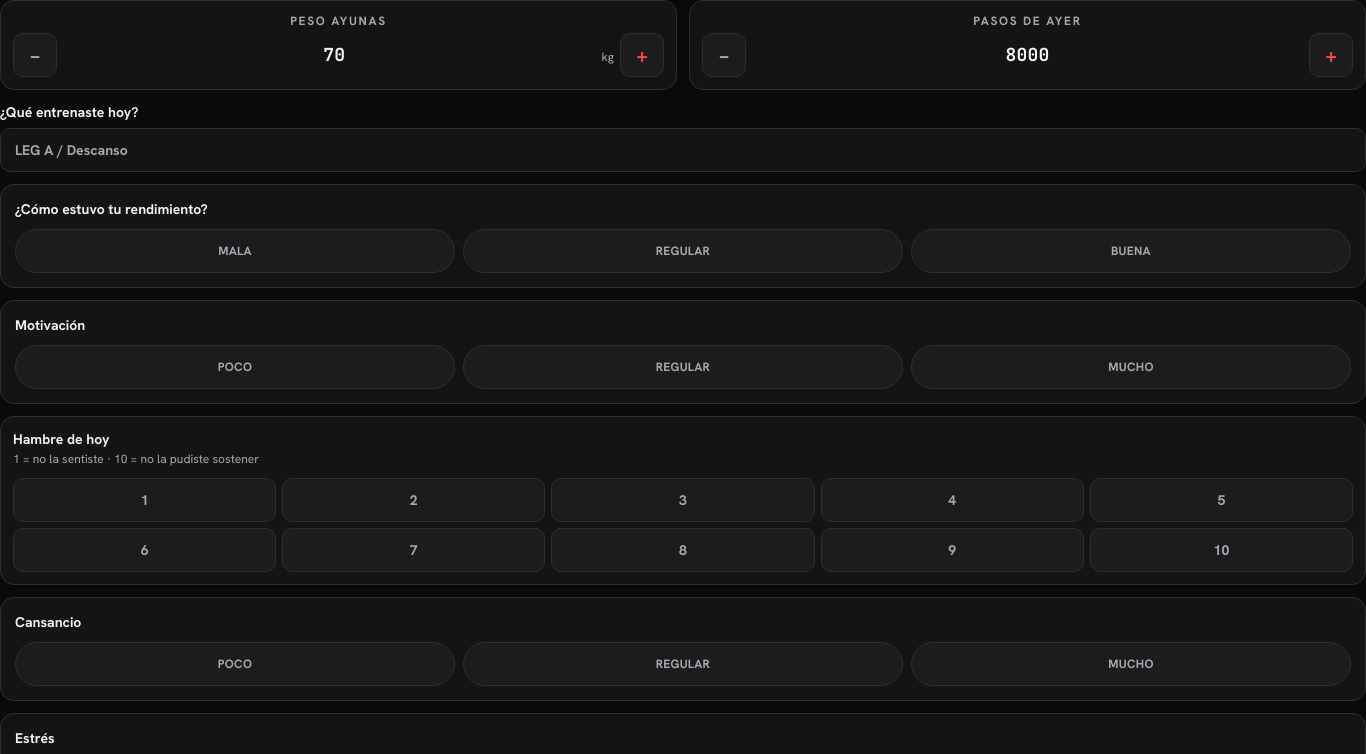
Test: CheckinForm — la escala de hambre › dice cómo se vive ese nivel, para que dos personas calibren igual
Click the button "8" at (683, 550), box [551,528,815,572]
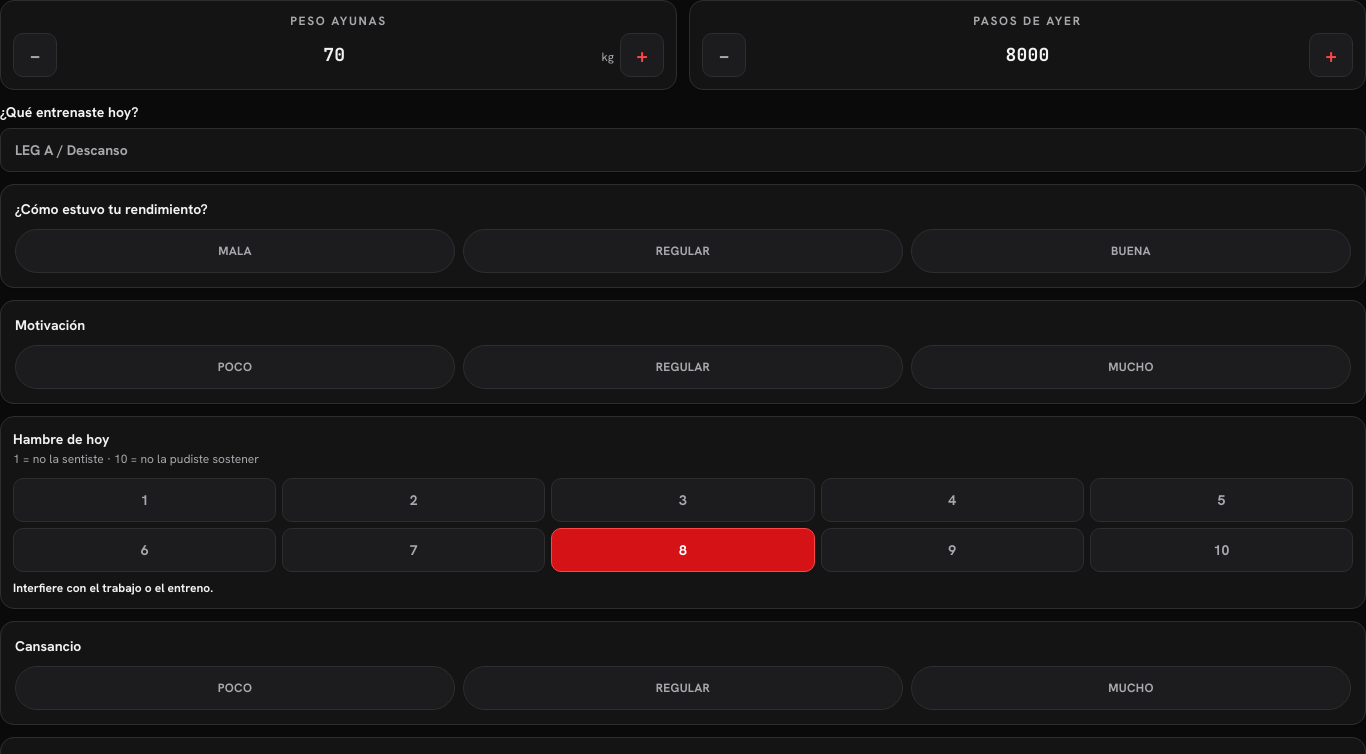
Expected: the text "Interfiere con el trabajo o el entreno." is shown, [13,580,213,596]
